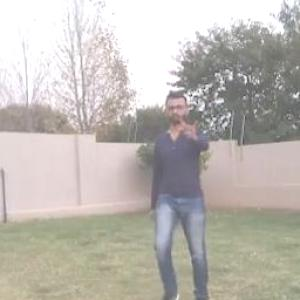takeoff-hand: (176, 107, 206, 145)
